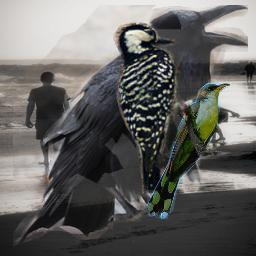Crow: (13, 5, 248, 248)
Cuckoo: (147, 83, 230, 219)
Woodpecker: (113, 19, 204, 195)
